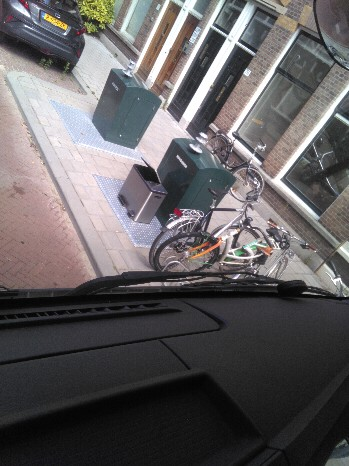Container: (109, 62, 159, 152), (175, 133, 220, 211)
Rest: (125, 168, 162, 215)
Voertuig: (173, 212, 291, 281), (3, 0, 76, 62), (221, 122, 261, 188)
